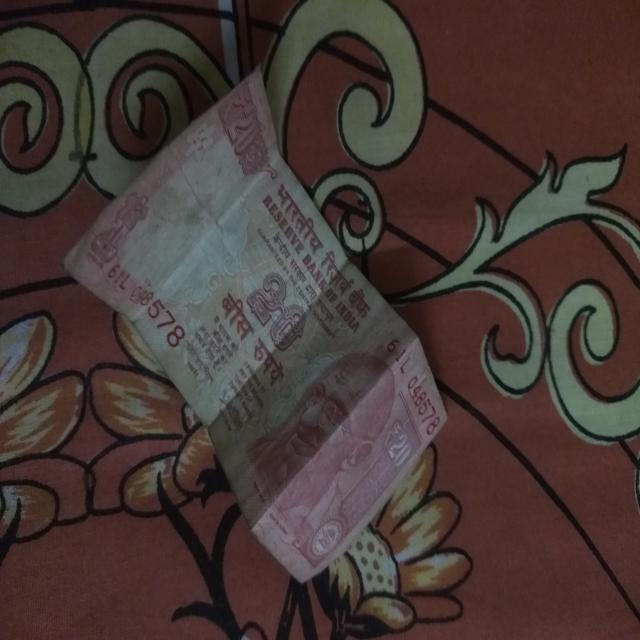20rs: (59, 64, 458, 572)
